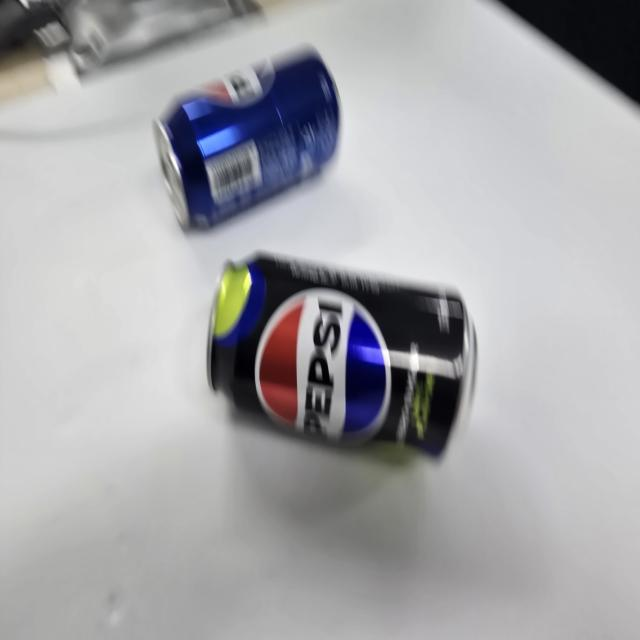can_pepsi: (156, 42, 338, 237)
can_pepsi_zero: (208, 249, 473, 465)
